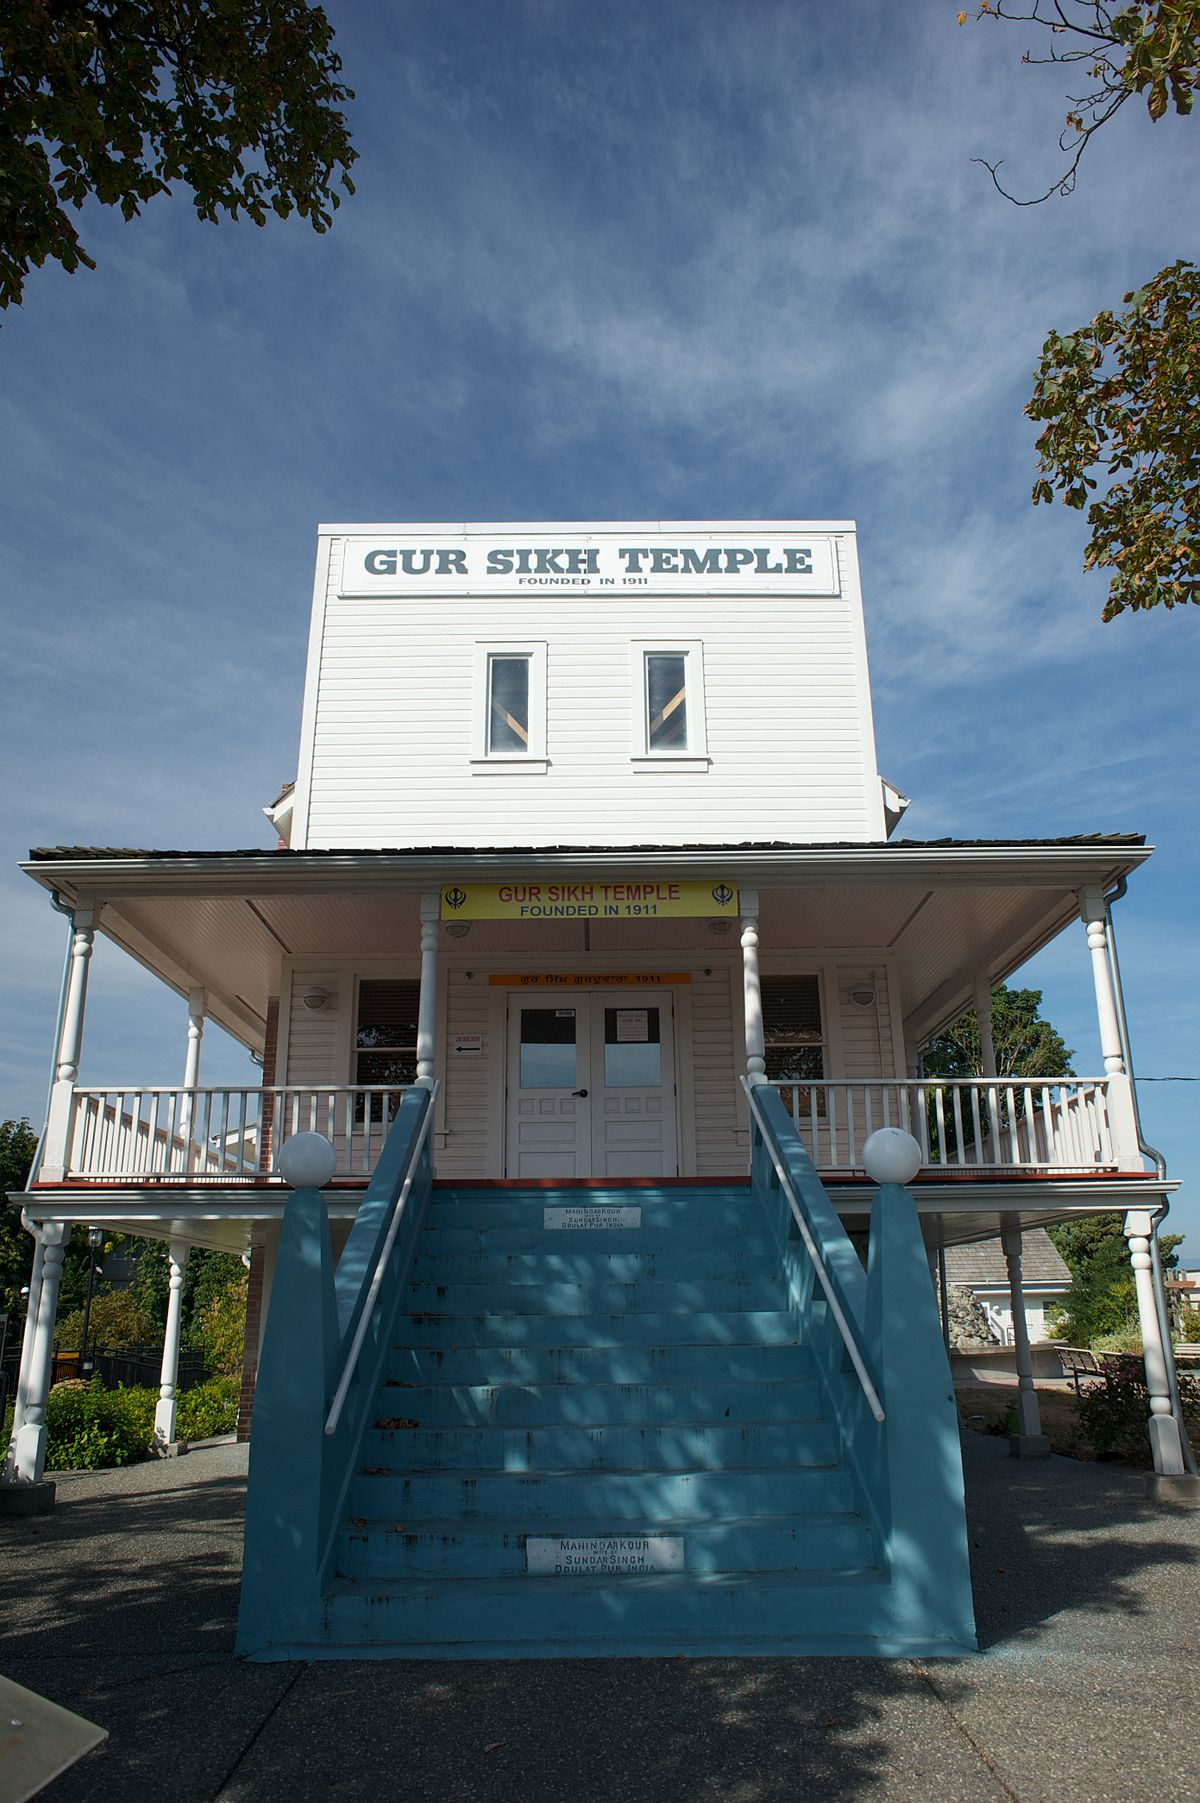Gurdwara: (72, 438, 1086, 1510)
